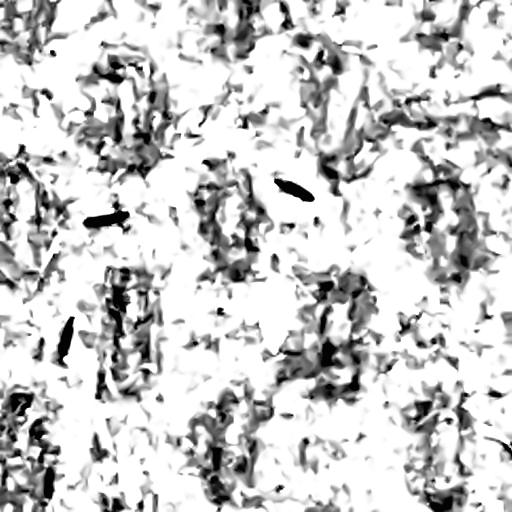egg: (275, 178, 313, 200), (83, 210, 128, 226), (58, 317, 73, 359)
